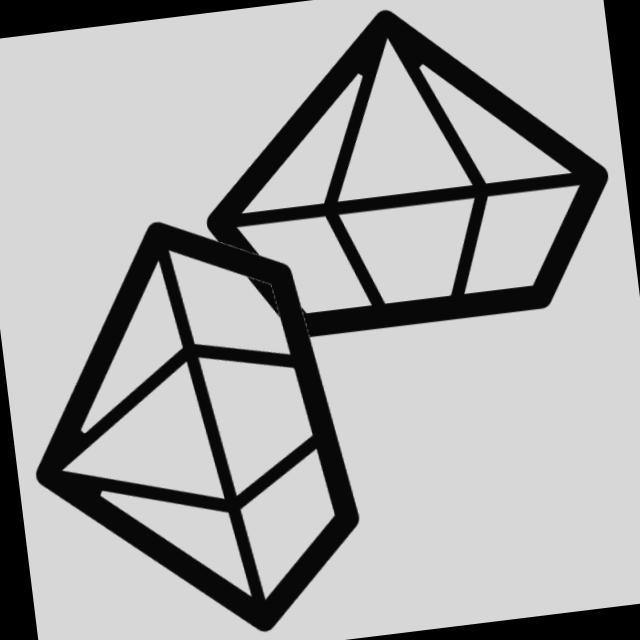diamond: (1, 189, 385, 640), (171, 1, 630, 354)
